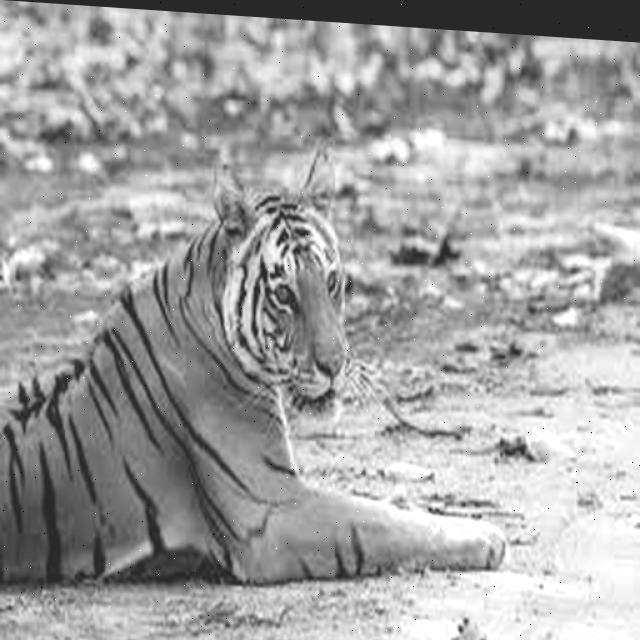Tiger: (0, 121, 508, 634)
